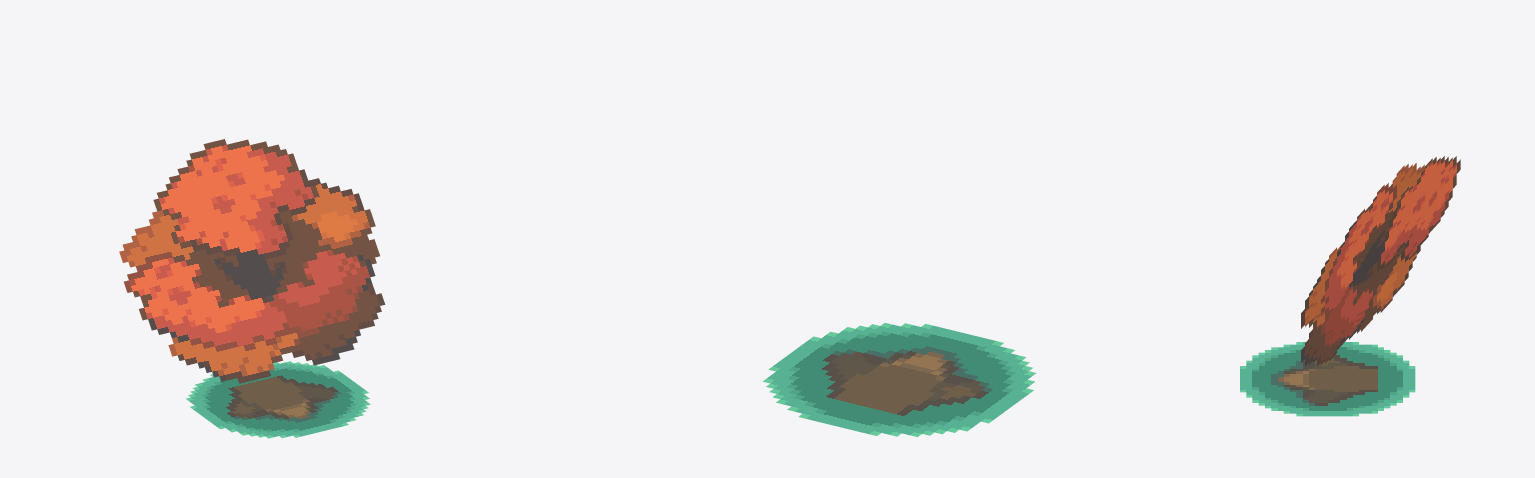
The model's file is hgss-arbre-rosalia-en_tree02.glb.
The picture shows the model from 3 angles, left to right: view 1: azimuth 30°, elevation 25°; view 2: azimuth 150°, elevation 25°; view 3: azimuth 270°, elevation 25°; orthographic projection. The views are drawn at different scales.
Size of the model in its own units: 4 by 3.08 by 2.92.
Materials: 2 (2 with a texture image).
